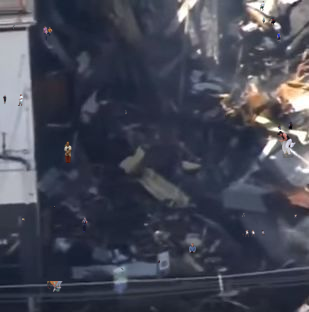Human: (277, 131, 297, 158), (259, 1, 287, 15), (3, 94, 23, 106), (47, 281, 63, 294), (240, 229, 265, 237), (64, 141, 72, 163), (42, 25, 53, 41), (262, 16, 276, 26), (278, 122, 293, 130), (82, 217, 88, 233), (189, 243, 196, 253), (277, 32, 281, 42), (12, 24, 18, 30), (242, 213, 245, 217), (124, 189, 127, 193), (294, 214, 297, 218), (157, 260, 160, 264), (225, 114, 228, 118), (121, 268, 126, 270), (125, 110, 127, 115), (50, 206, 55, 208), (22, 218, 25, 221)
